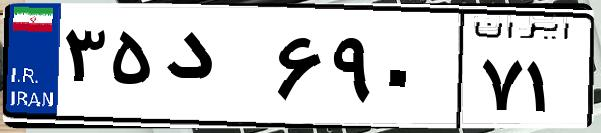0: (385, 28, 445, 110)
1: (525, 38, 570, 115)
3: (57, 26, 110, 100)
5: (110, 28, 158, 98)
6: (270, 28, 330, 110)
7: (475, 38, 525, 113)
9: (330, 28, 385, 110)
د: (158, 20, 270, 120)
